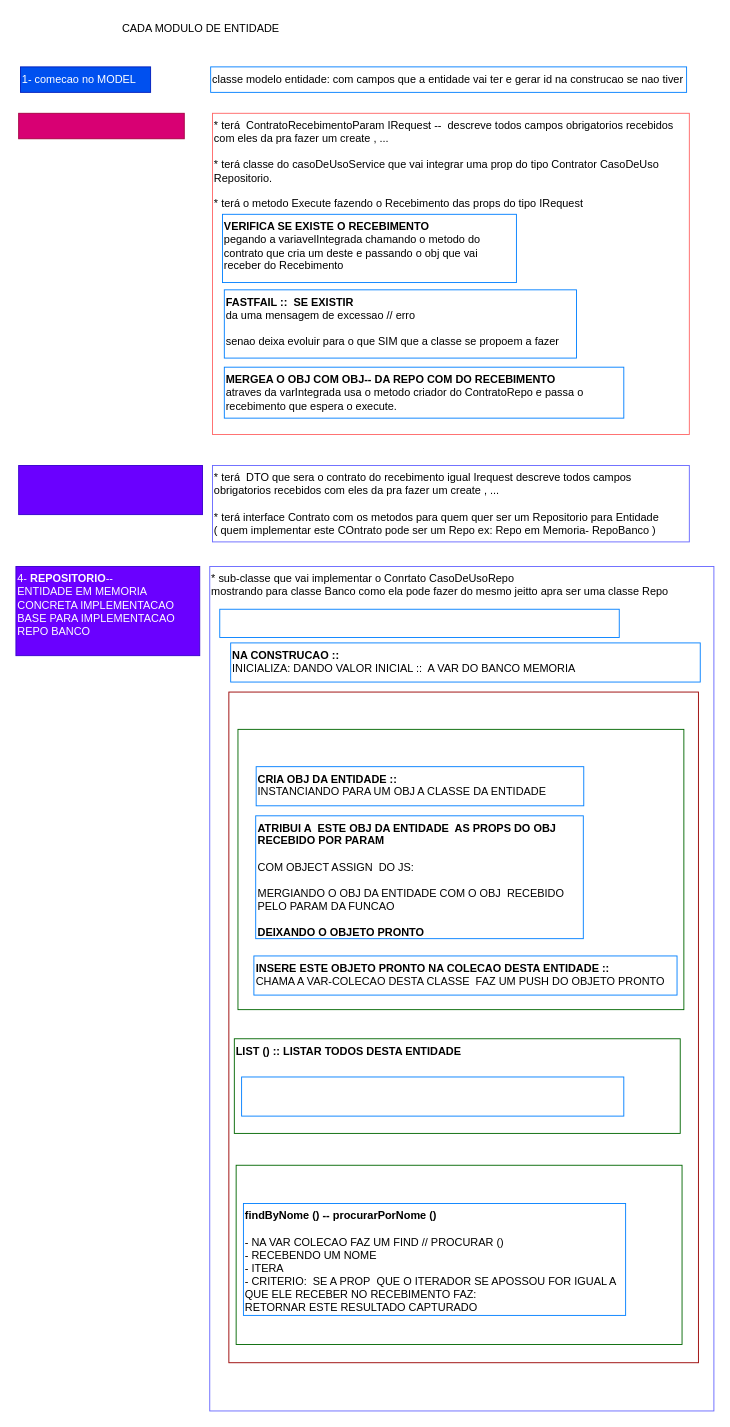
Some shapes in this 730 by 1427 pixel diagram are drawn without their labels. Here are the shapes that lost their labels. From the top down, the box of each, then its label:
(18, 112, 184, 139): 2- SERVICO- DO CASODEUSO
(18, 465, 202, 515): 3- REPOSITORIO -- CONTRATO- CASO DE USO REPO
(219, 608, 619, 637): DECLARA: O QUE VAI SER :: VARIAVEL DO BANCO EM MEMORIA
(237, 728, 684, 1010): CREATE () :: CRIADOR DE OUTRA ENTIDADE DESTA - TEM O RECEBIMENTO DO DTO
(228, 691, 698, 1363): IMPLEMENTA METODOS DO CONTRATO DO REPO ::
(241, 1076, 624, 1116): UM GETTER: RETORNA A VAR QUE REFERENCIA A COLECAO DESTA ENTIDAD E
(235, 1164, 682, 1345): METODO AUX. BARRAR-DUPLICACAO DE PROP PRIMITIVO (NOME) ANTES DE CRIAR
